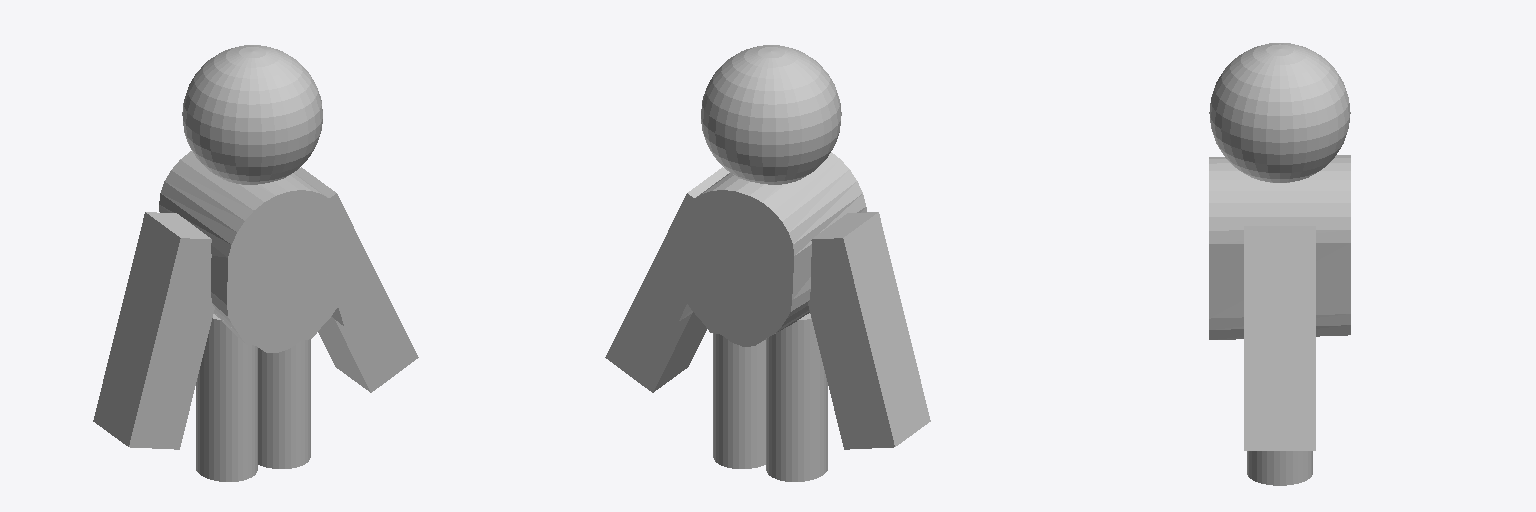
The model's file is Figurine12.obj.
The picture shows the model from 3 angles: view 1: azimuth 30°, elevation 25°; view 2: azimuth 150°, elevation 25°; view 3: azimuth 270°, elevation 25°; orthographic projection.
Visible parts, largest first — view 1: Cylinder; view 2: Cylinder; view 3: Cylinder.
Part boxes in pixels (x1,y1,x2,y2): Cylinder: (93,45,418,481); Cylinder: (605,45,930,481); Cylinder: (1209,43,1350,485).
Size of the model in its own units: 4.75 by 6.42 by 2.